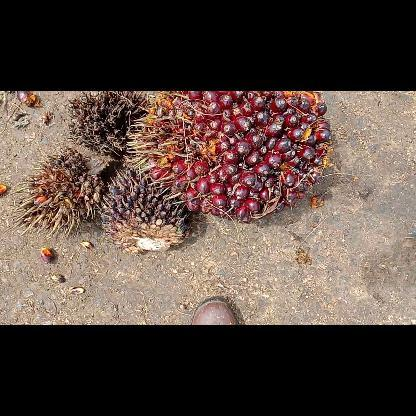TBS abnormal: (100, 164, 197, 252), (13, 144, 103, 238), (66, 91, 148, 163)
TBS masak: (124, 90, 335, 226)
